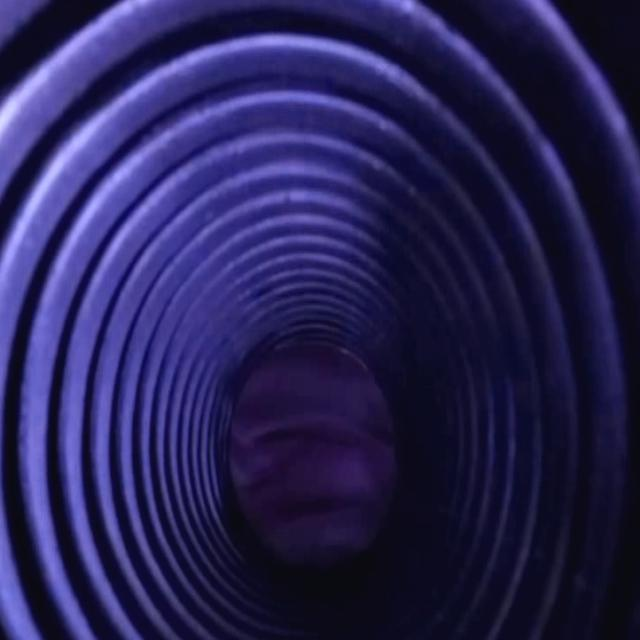block: (215, 340, 396, 575)
